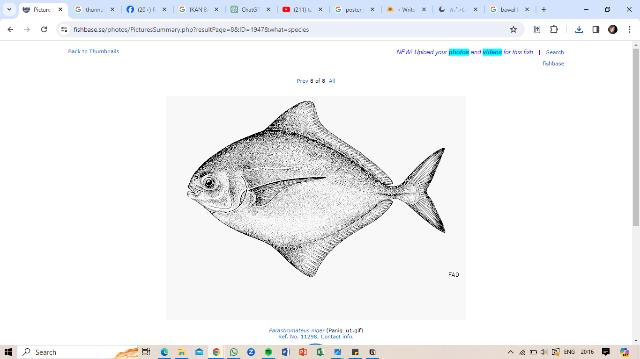Mulut: (170, 164, 214, 212)
Sirip Anal: (318, 198, 396, 236), (451, 238, 455, 244)
Sirip Dada: (238, 166, 332, 216)
Sirip Ekor: (396, 139, 452, 240)
Sirip Perut: (264, 237, 350, 283)
Sirip Punggung: (262, 95, 400, 188)
